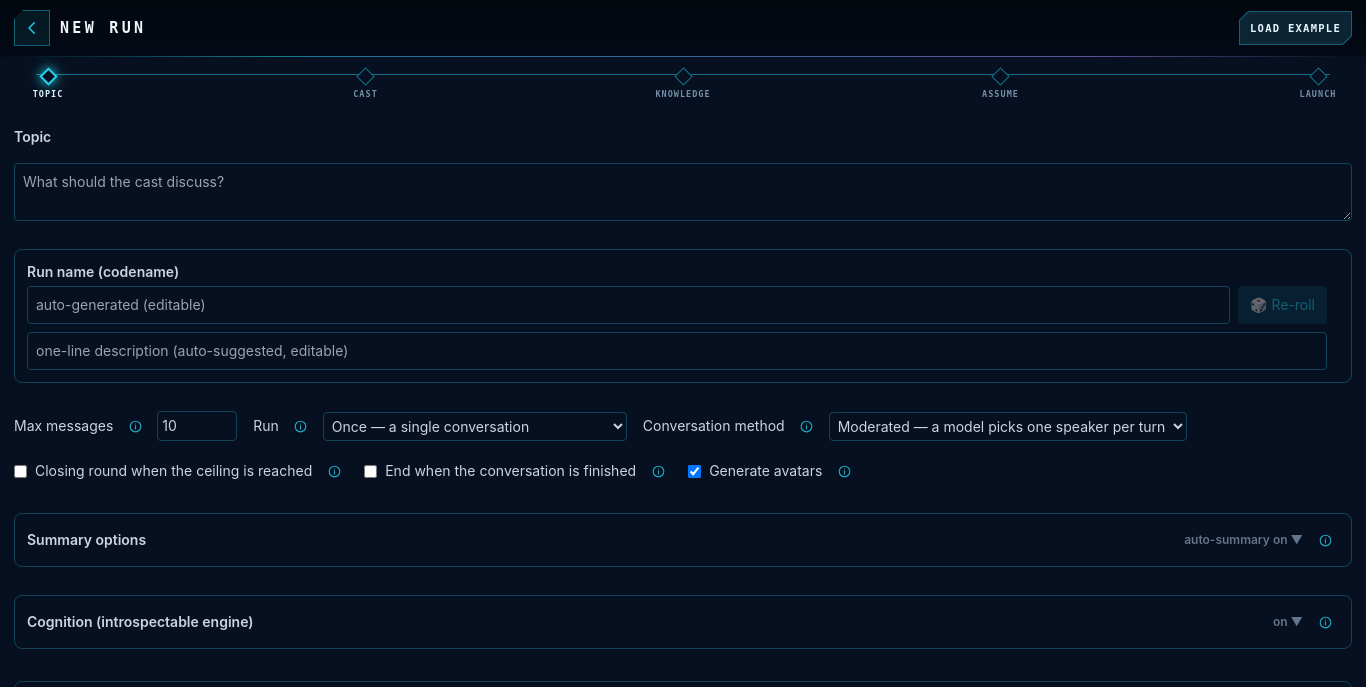
Test case: NewRunForm run type › offers five replicates by default
Expected: the dropdown next to "Once" is shown, [323,412,627,440]
Click the button "Load example" at (1296, 28), box [1239,11,1352,45]
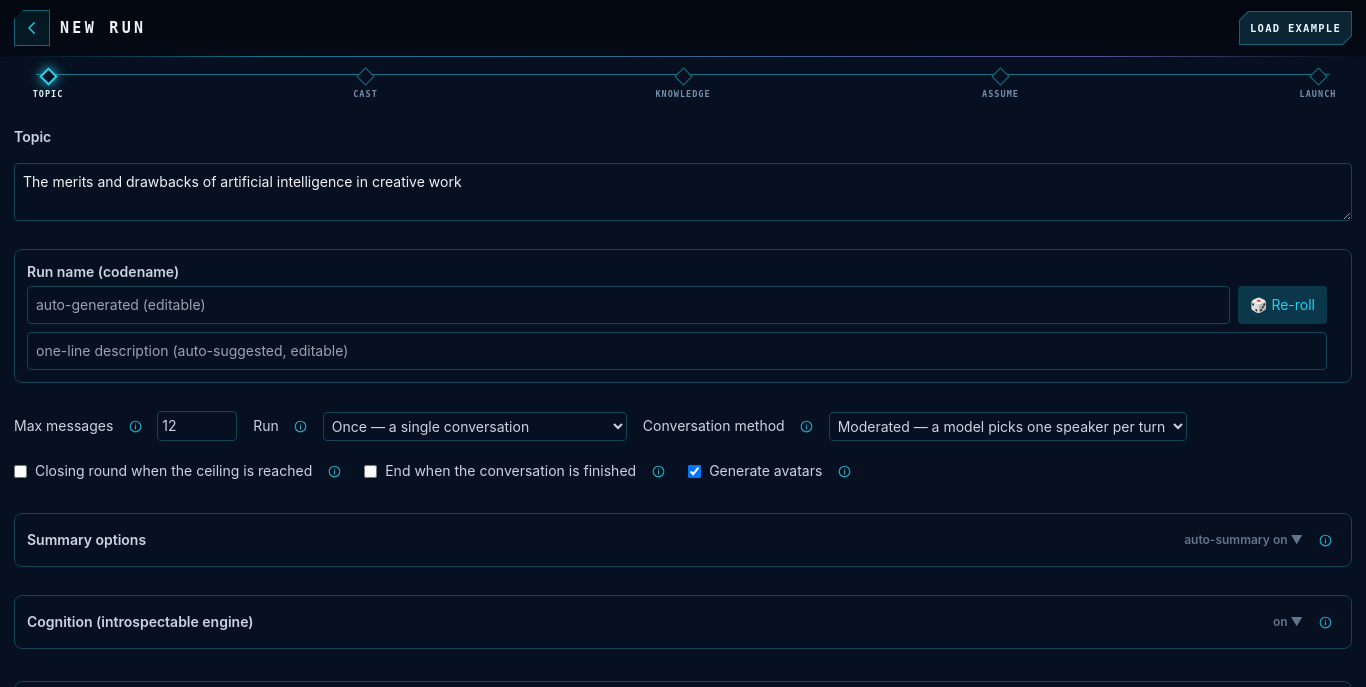
Select "Several times — same brief, then a report" in the dropdown next to "Once" at (475, 426), box [323,412,627,440]
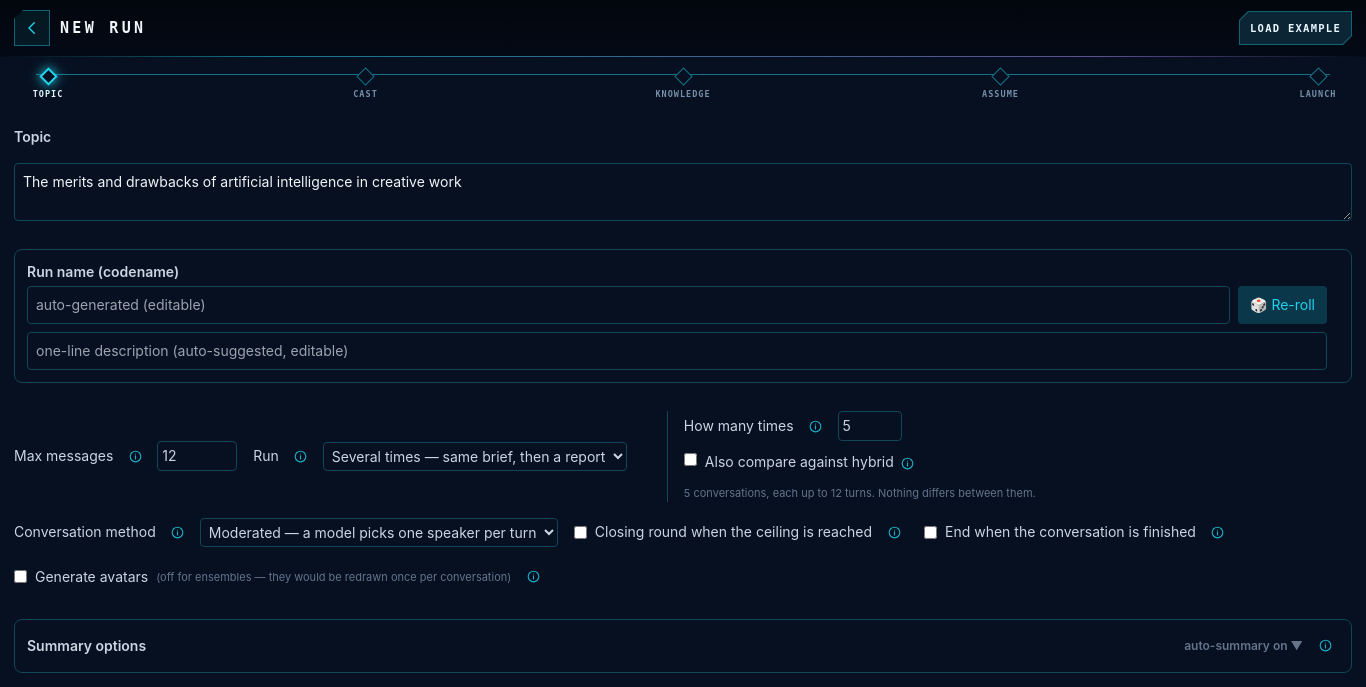
Now the number field next to "How many times" holds "5", box [838,411,902,441]
Now the checkbox labelled "Also compare against hybrid" is not checked, box [684,453,697,466]
